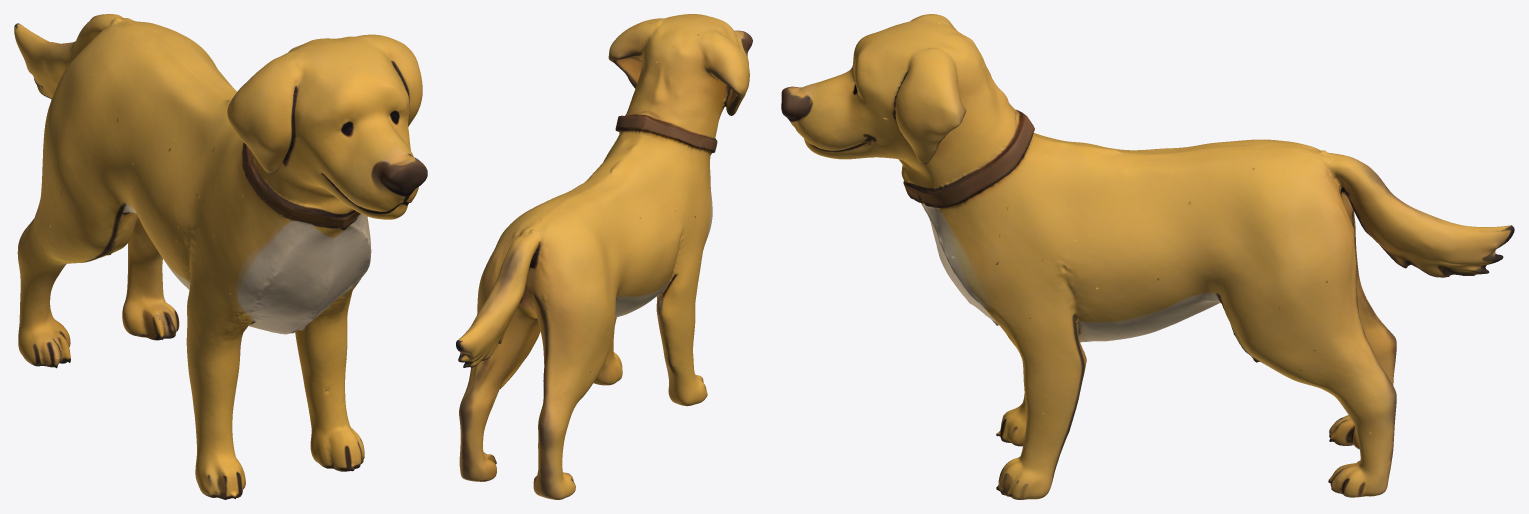
File: pet_dog_stand.glb
3 renders of one model, left to right at view 1: azimuth 30°, elevation 25°; view 2: azimuth 150°, elevation 25°; view 3: azimuth 270°, elevation 25°, orthographic. The views are drawn at different scales.
Size of the model in its own units: 0.538 by 1.31 by 2.
1 material, 1 textured.
